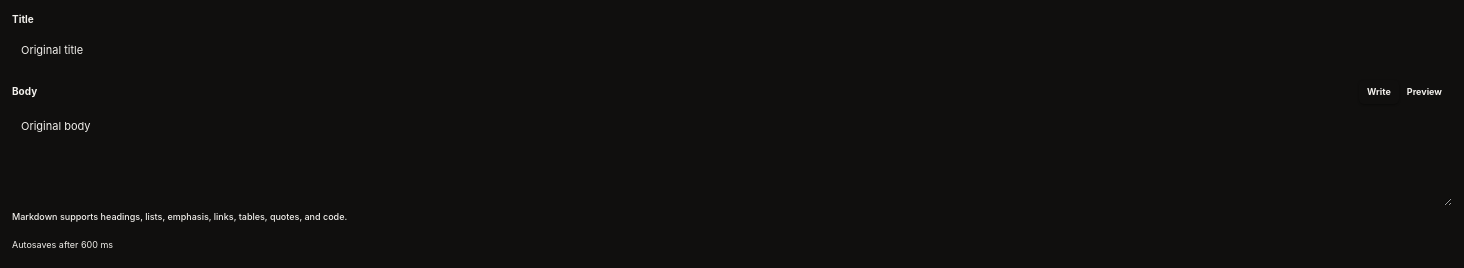
Scenario: ObjectContentEditor › keeps a failed draft and exposes retry
Replace the text in the text box named "Body" with "Keep this draft": [732, 158] box [12,110,1452,206]
Wait 600 ms
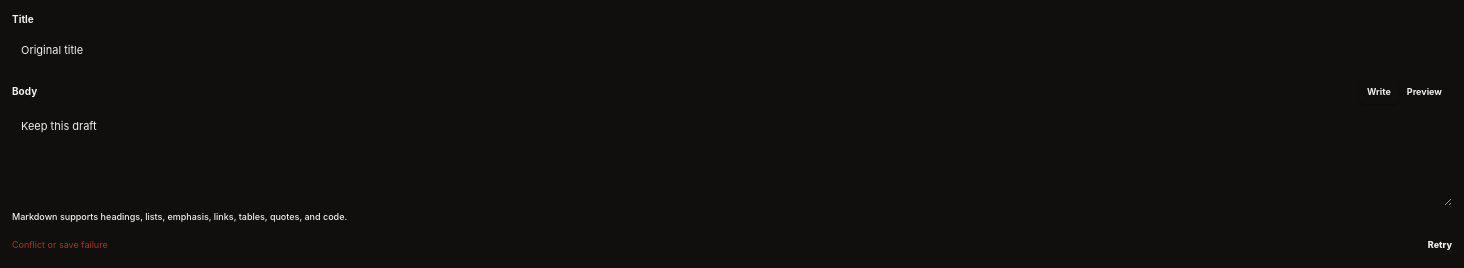
Expected: the text "Conflict or save failure" is shown, [12,238,108,252]
Expected: the button "Retry" is shown, [1428,238,1452,252]
